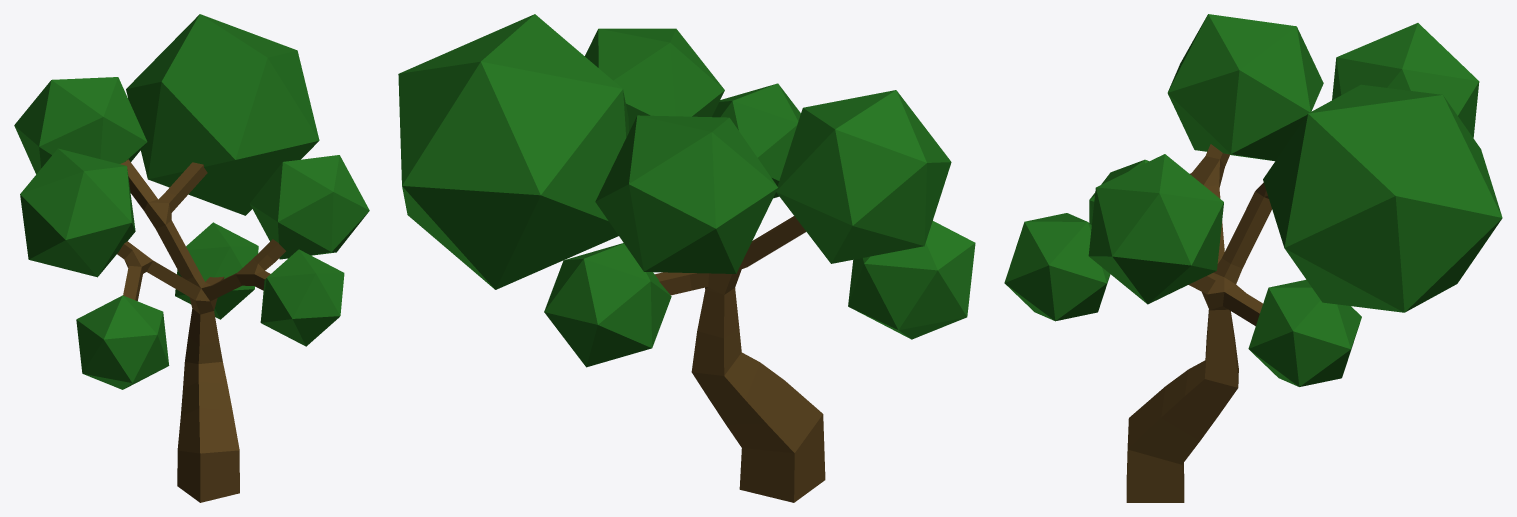
The model's file is Tree_LowPoly_1-1.fbx.
3 renders of one model, left to right at view 1: azimuth 30°, elevation 25°; view 2: azimuth 150°, elevation 25°; view 3: azimuth 270°, elevation 25°, orthographic. The views are drawn at different scales.
Parts seen in each view (by area): view 1: Tree_LowPoly_1-1; view 2: Tree_LowPoly_1-1; view 3: Tree_LowPoly_1-1.
Boxes of the visible parts, x1=… form: Tree_LowPoly_1-1: x1=14, y1=14, x2=369, y2=502; Tree_LowPoly_1-1: x1=398, y1=14, x2=975, y2=502; Tree_LowPoly_1-1: x1=1004, y1=14, x2=1502, y2=502.
Bounding box in the file's own units: 884 × 934 × 915.
